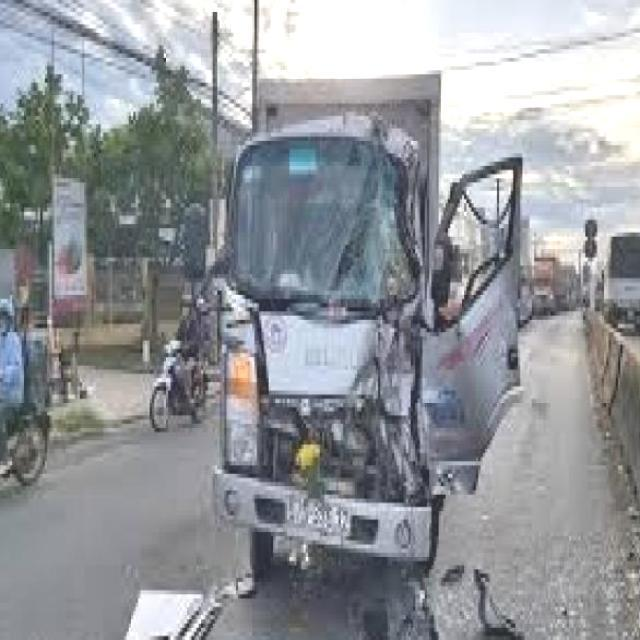accident: (191, 82, 534, 640)
